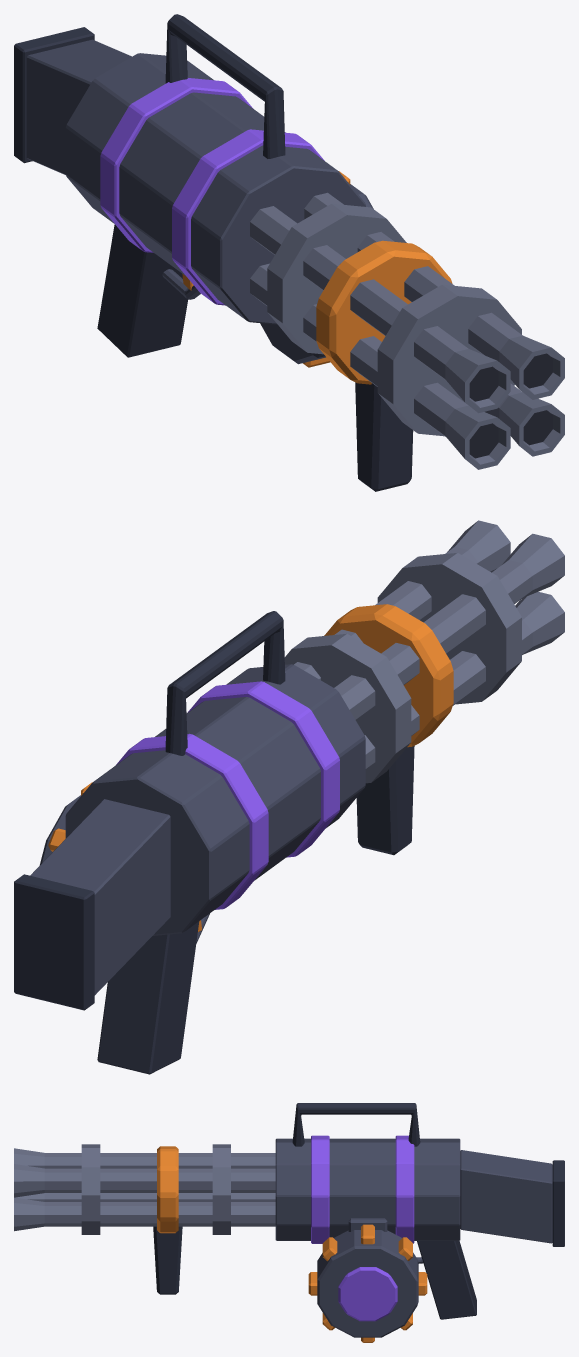
The model's file is myw_gatlingshotgun.glb.
3 renders of one model, top to bottom at view 1: azimuth 30°, elevation 25°; view 2: azimuth 150°, elevation 25°; view 3: azimuth 270°, elevation 25°, orthographic. The views are drawn at different scales.
Visible parts, largest first — view 1: Body, Barrels, Grip, Drum; view 2: Body, Barrels, Grip, Drum; view 3: Body, Barrels, Drum, Grip.
Part boxes in pixels (x1,y1,x2,y2): Body: [14, 14, 365, 357]; Barrels: [250, 192, 564, 469]; Grip: [316, 240, 452, 491]; Drum: [260, 171, 373, 367]; Body: [14, 611, 365, 1074]; Barrels: [284, 520, 564, 783]; Grip: [324, 604, 453, 855]; Drum: [39, 782, 92, 865]; Body: [275, 1103, 564, 1319]; Barrels: [14, 1144, 275, 1234]; Drum: [308, 1218, 427, 1342]; Grip: [153, 1146, 182, 1294].
Bounding box in the file's own units: 1 × 1.5 × 3.58.
